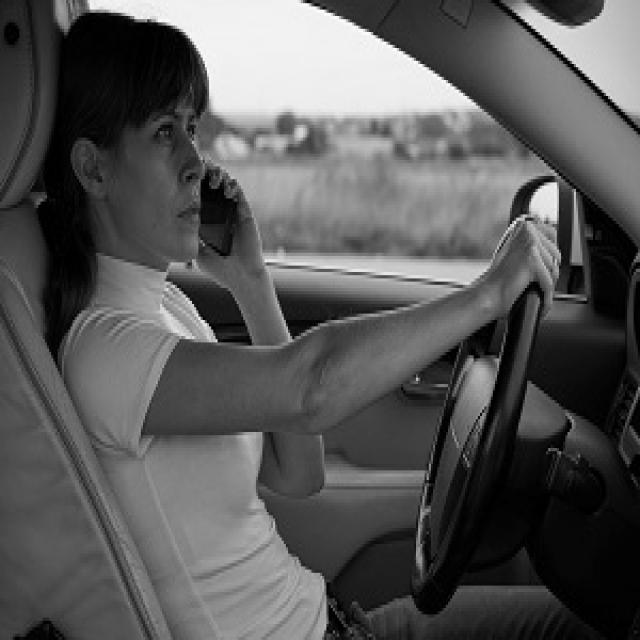Phone: (199, 170, 245, 269)
